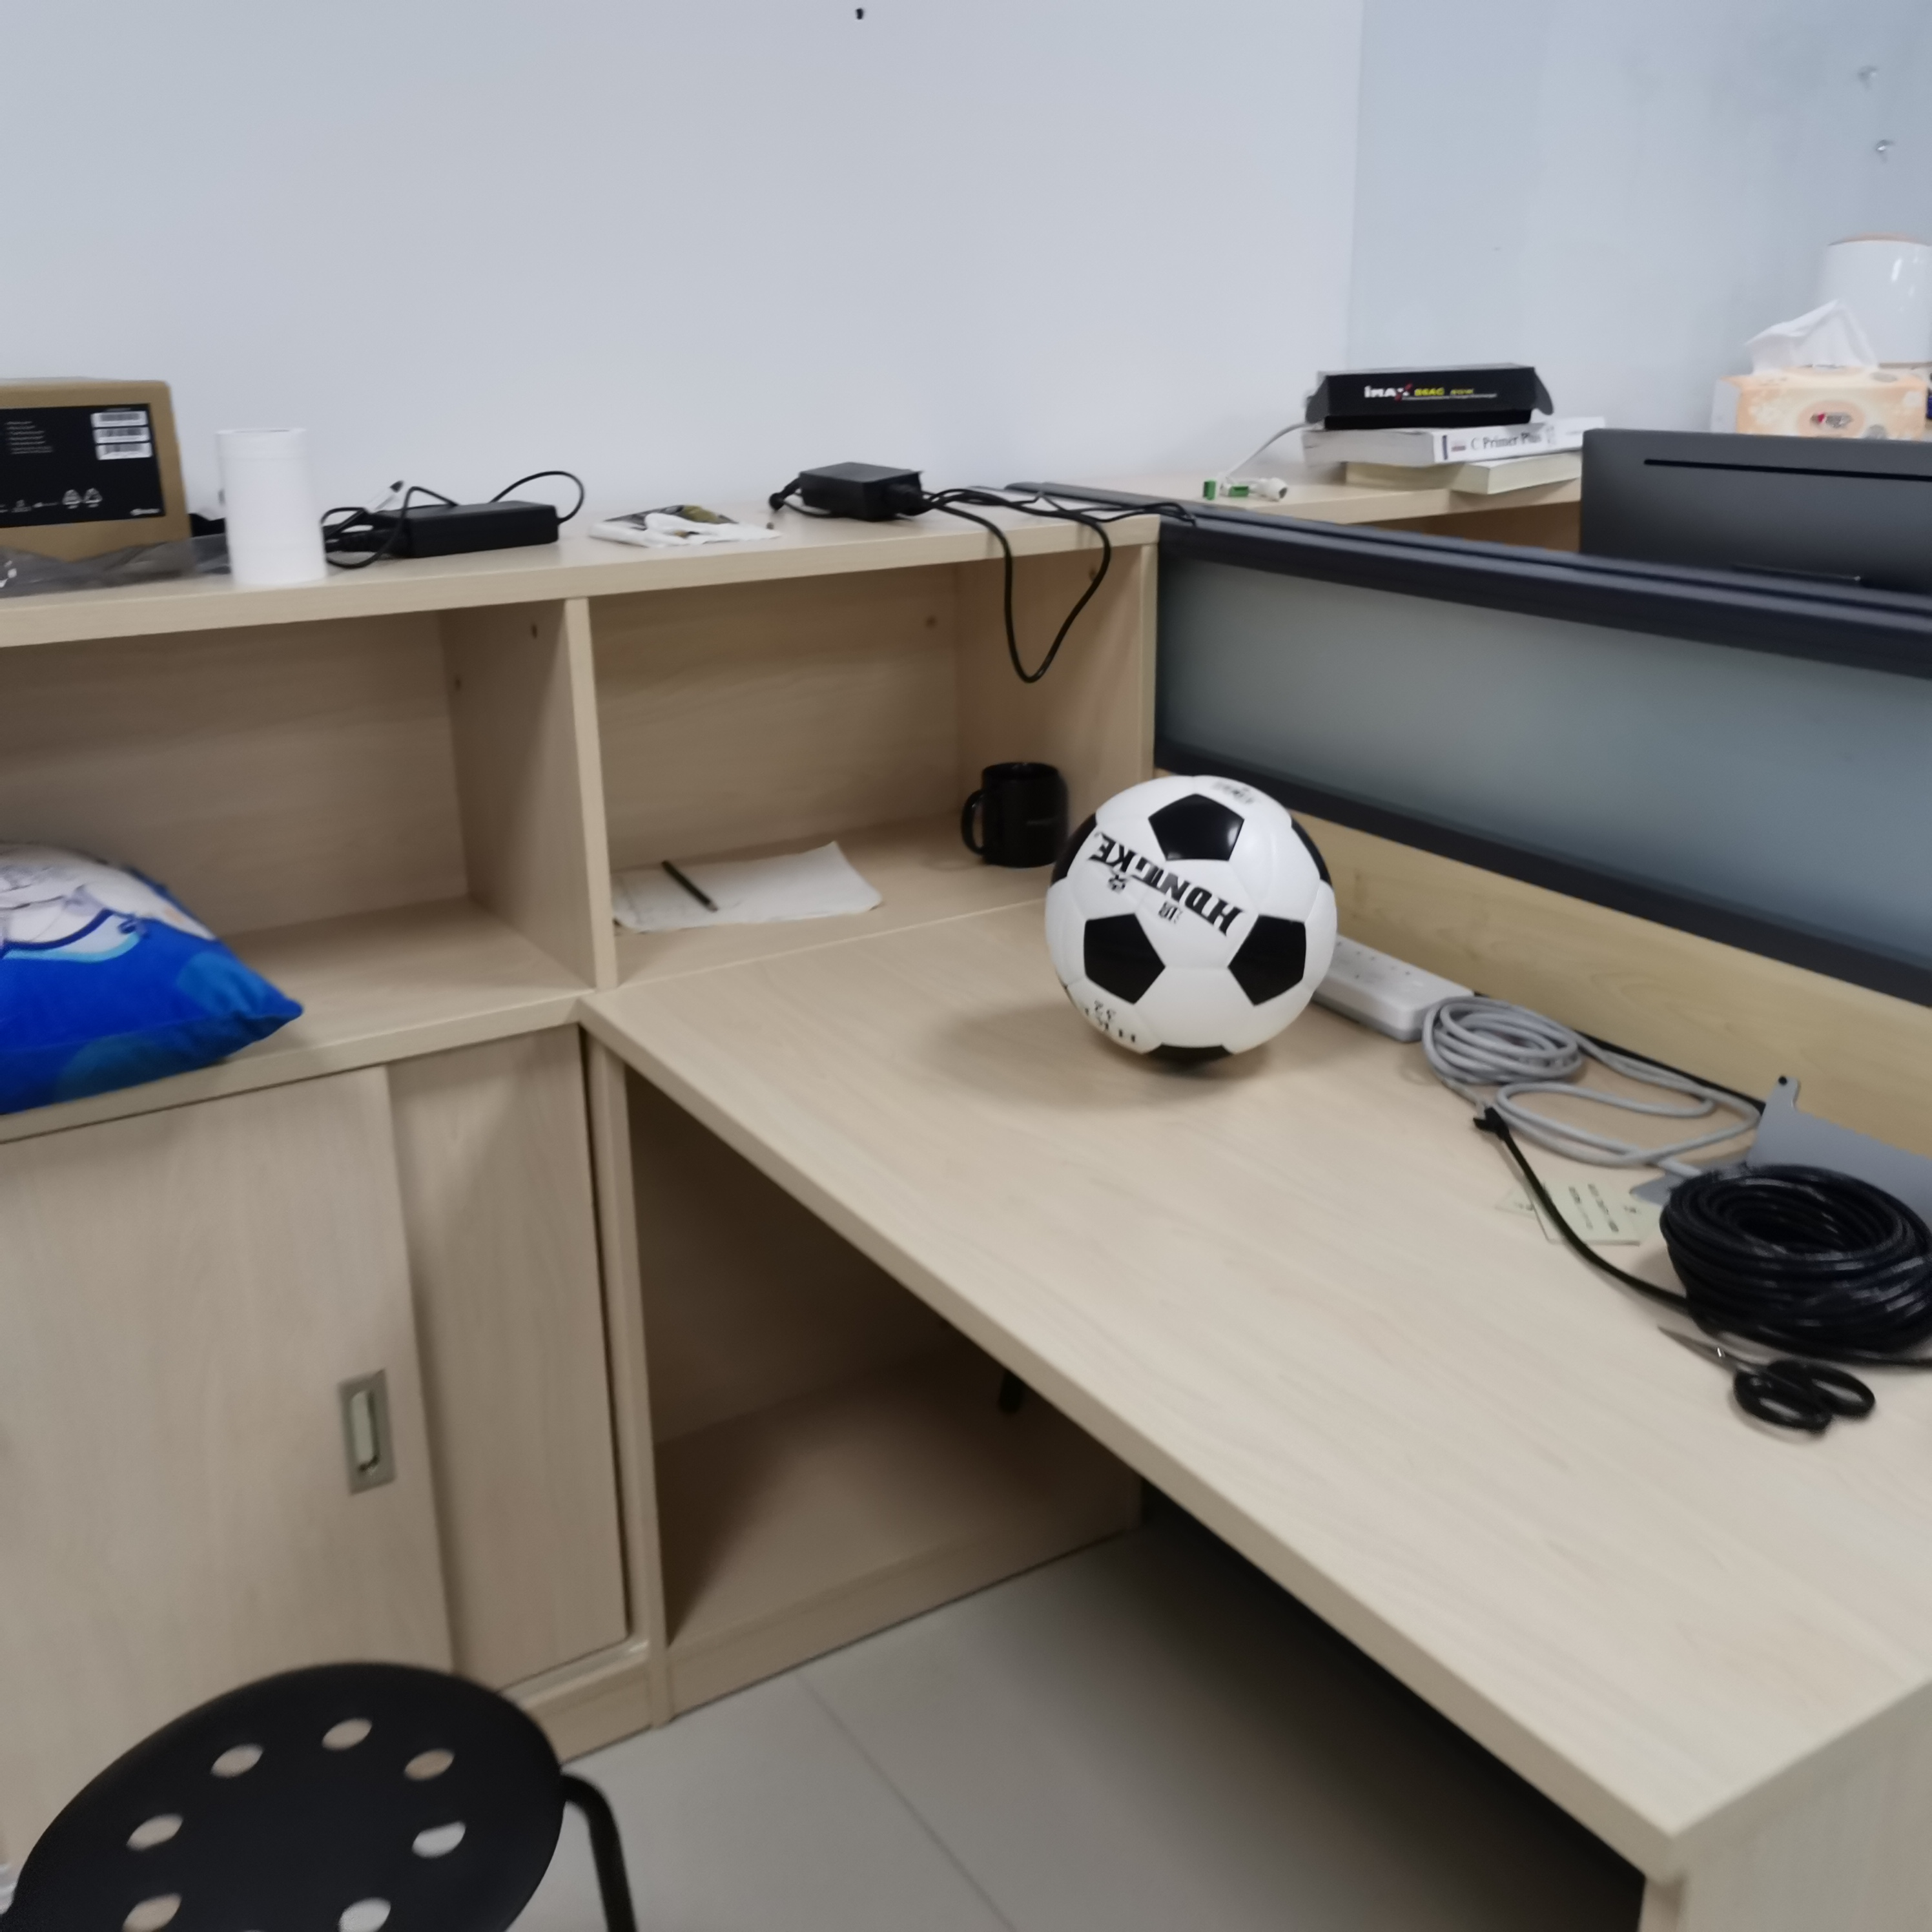football: (1044, 777, 1341, 1067)
